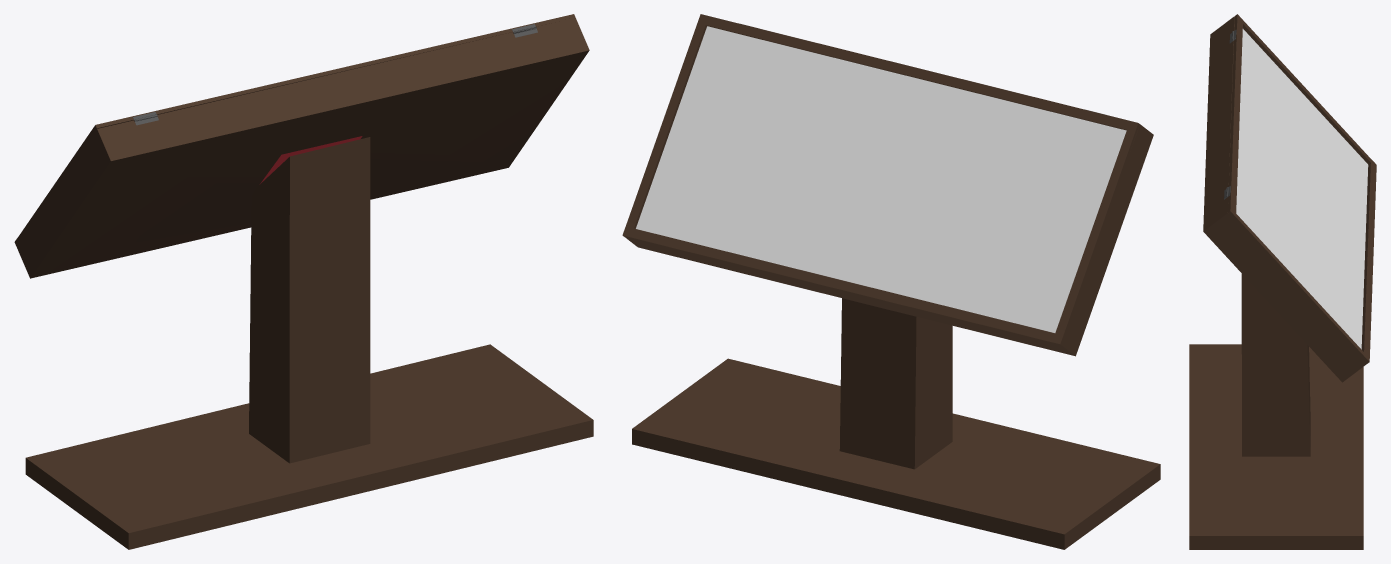
Rendered from showcaseNghieng1.fbx.
The picture shows the model from 3 angles, left to right: view 1: azimuth 30°, elevation 25°; view 2: azimuth 150°, elevation 25°; view 3: azimuth 270°, elevation 25°; orthographic projection. The views are drawn at different scales.
Visible parts, largest first — view 1: Cube.001, Cube.002; view 2: Cube.002, Cube.001; view 3: Cube.002, Cube.001.
Part boxes in pixels (x1,y1,x2,y2): Cube.001: (25, 137, 593, 549); Cube.002: (14, 14, 589, 278); Cube.002: (622, 14, 1153, 356); Cube.001: (632, 298, 1160, 549); Cube.002: (1203, 14, 1376, 382); Cube.001: (1189, 274, 1363, 549).
Bounding box in the file's own units: 1600 × 1300 × 645.
